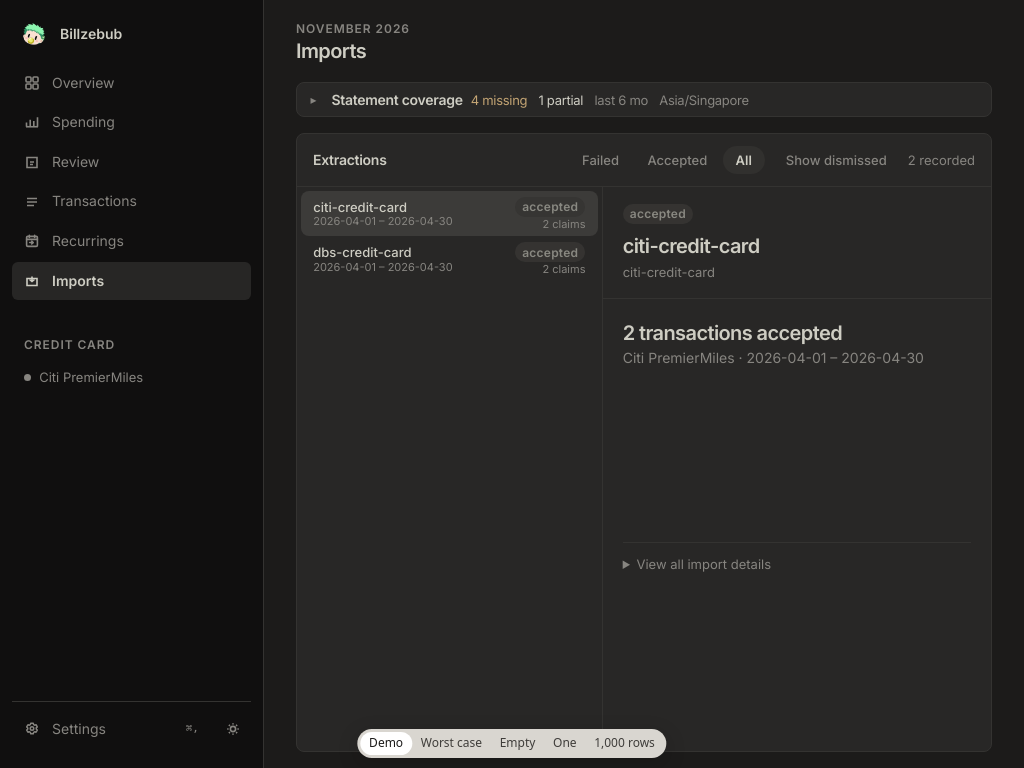
Scenario: App › marks missing statement months and deep-links Imports by Financial Account
Expected: the text "4 missing" is shown, [471,90,527,109]
Expected: the text "1 partial" is shown, [538,90,583,109]
Click the button "Statement coverage" at (644, 100), box [311,90,977,110]
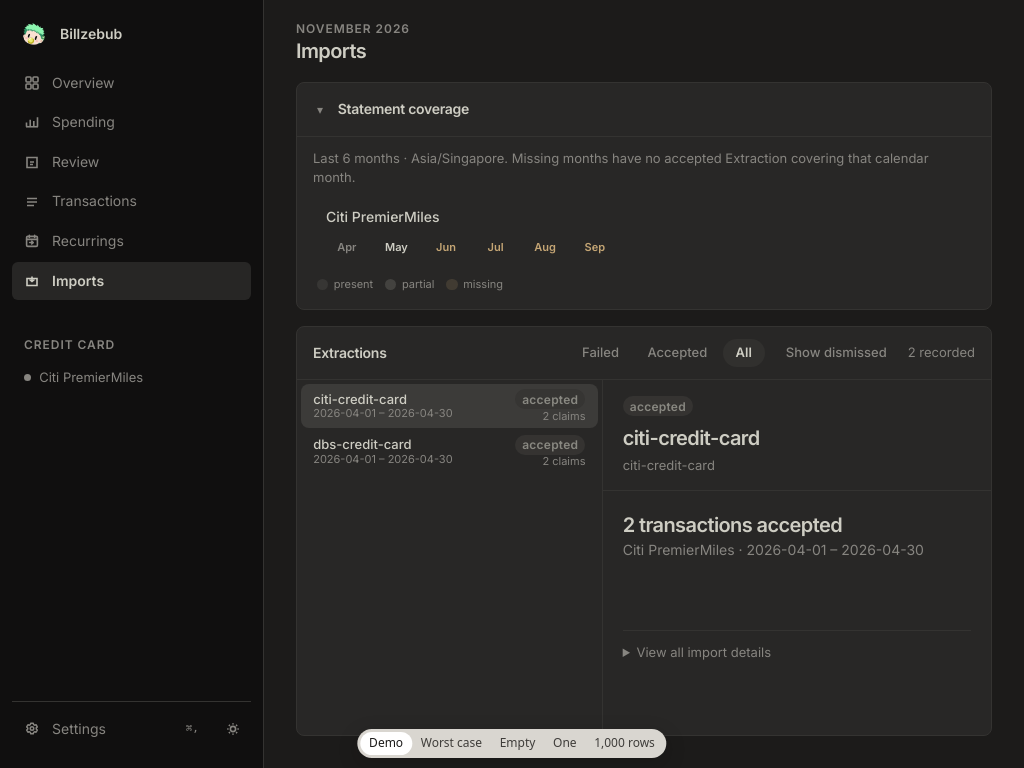
Now the list item "present" is shown, box [317,277,373,293]
Now the list item "missing" is shown, box [446,277,503,293]
Now the picture "Apr" is shown, box [337,240,356,254]
Click the button with aria-label "Citi PremierMiles · Jun · missing" at (446, 248), box [425,236,467,260]
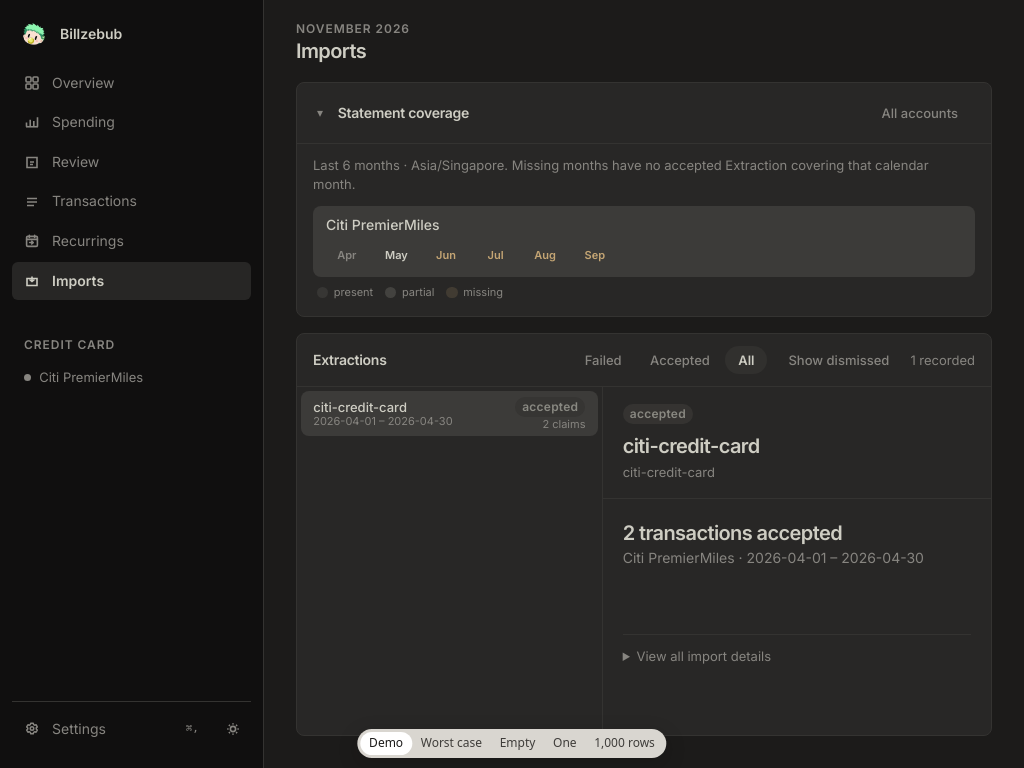
Expected: the 1st text "citi-credit-card" is shown, [313,400,407,414]
Now the button "dbs-credit-card" is gone
